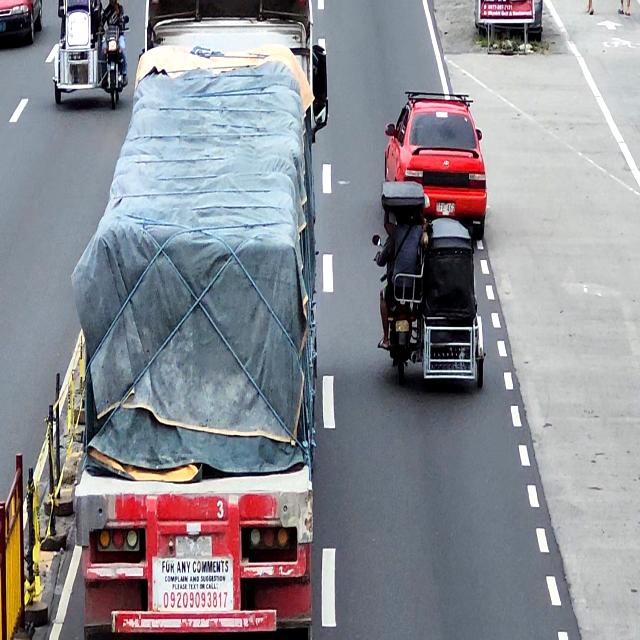Car: (384, 90, 487, 238)
License-Plate: (436, 202, 455, 216), (395, 320, 409, 333)
Tricycle: (372, 179, 485, 388), (54, 0, 130, 104)
Truck: (75, 0, 332, 639)
